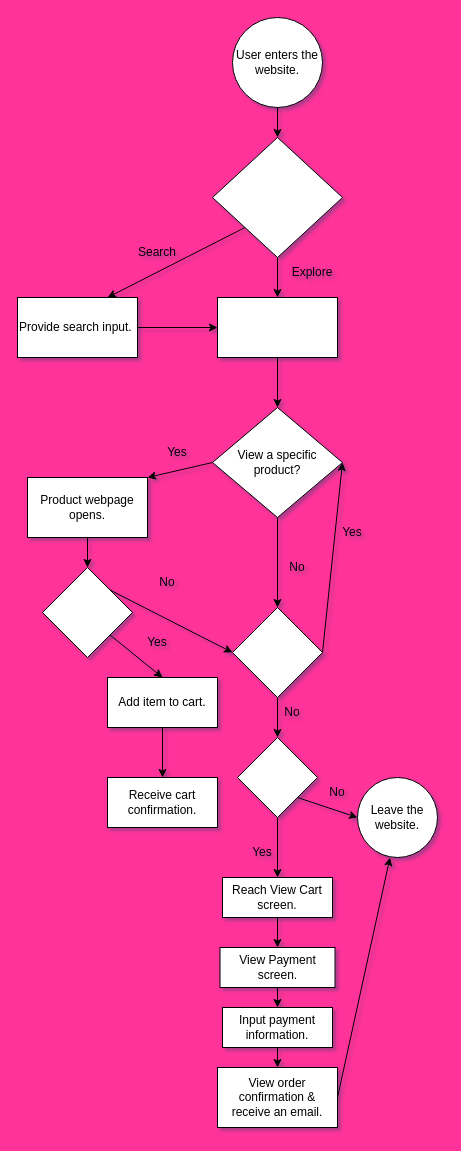
Some shapes in this 461 by 1151 pixel diagram are drawn without their labels. Each missing label, with the box of its shape:
Add item to cart?: (42, 566, 132, 658)
Checkout?: (236, 736, 318, 818)
Continue shopping?: (232, 606, 322, 698)
Search or explore products?: (212, 136, 342, 258)
View products.: (216, 296, 338, 358)
